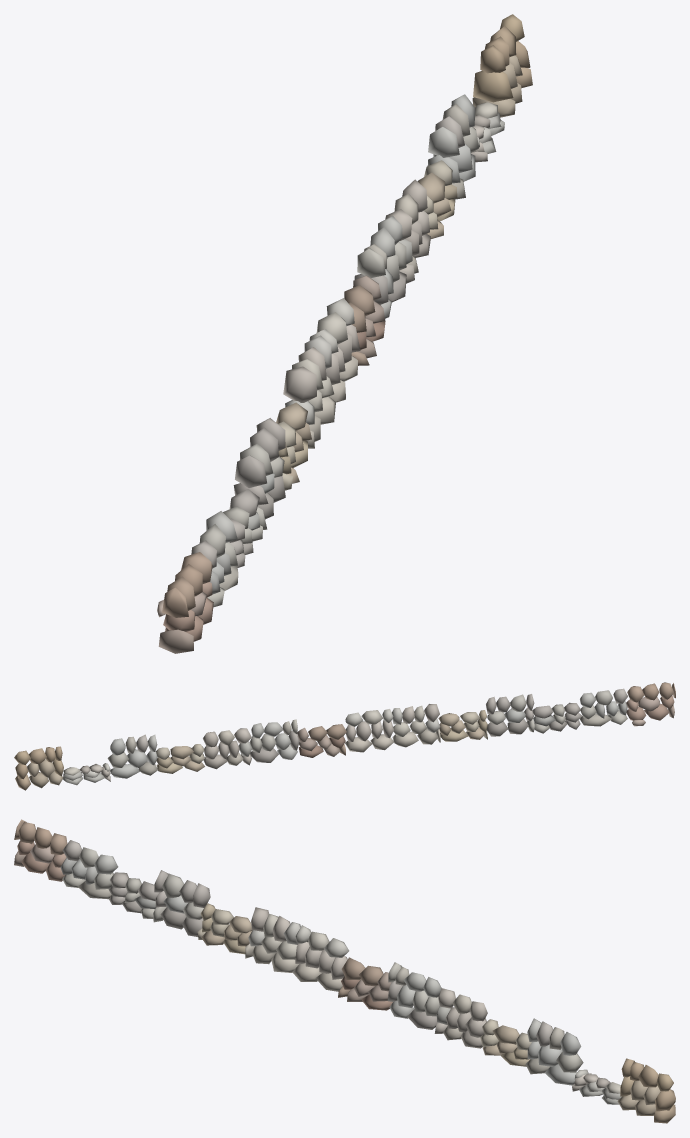
File: farm_6_-4_near.glb
The picture shows the model from 3 angles, top to bottom: view 1: azimuth 30°, elevation 25°; view 2: azimuth 150°, elevation 25°; view 3: azimuth 270°, elevation 25°; orthographic projection. The views are drawn at different scales.
Parts seen in each view (by area): view 1: geometry_0; view 2: geometry_0; view 3: geometry_0.
Part boxes in pixels (x1,y1,x2,y2): geometry_0: (157, 14, 532, 653); geometry_0: (14, 682, 675, 790); geometry_0: (14, 819, 675, 1123).
Size of the model in its own units: 15.74 by 1.62 by 16.08.
